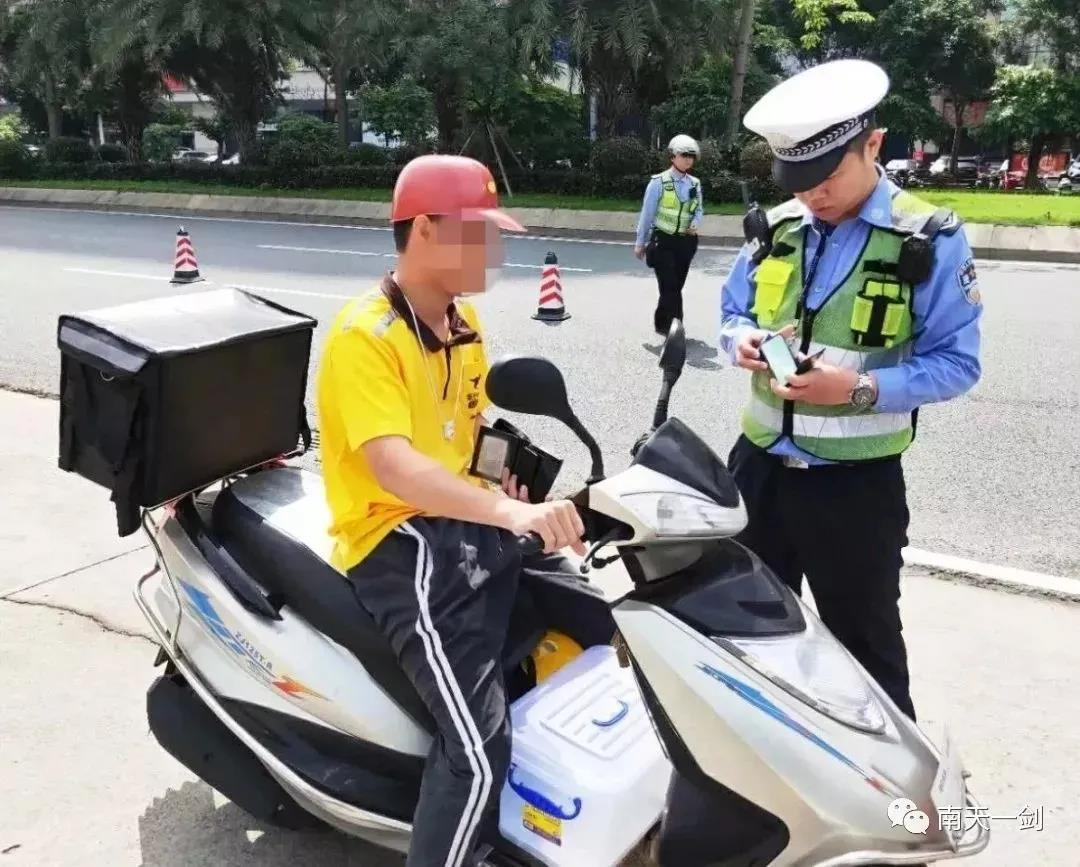target: (54, 156, 991, 852)
